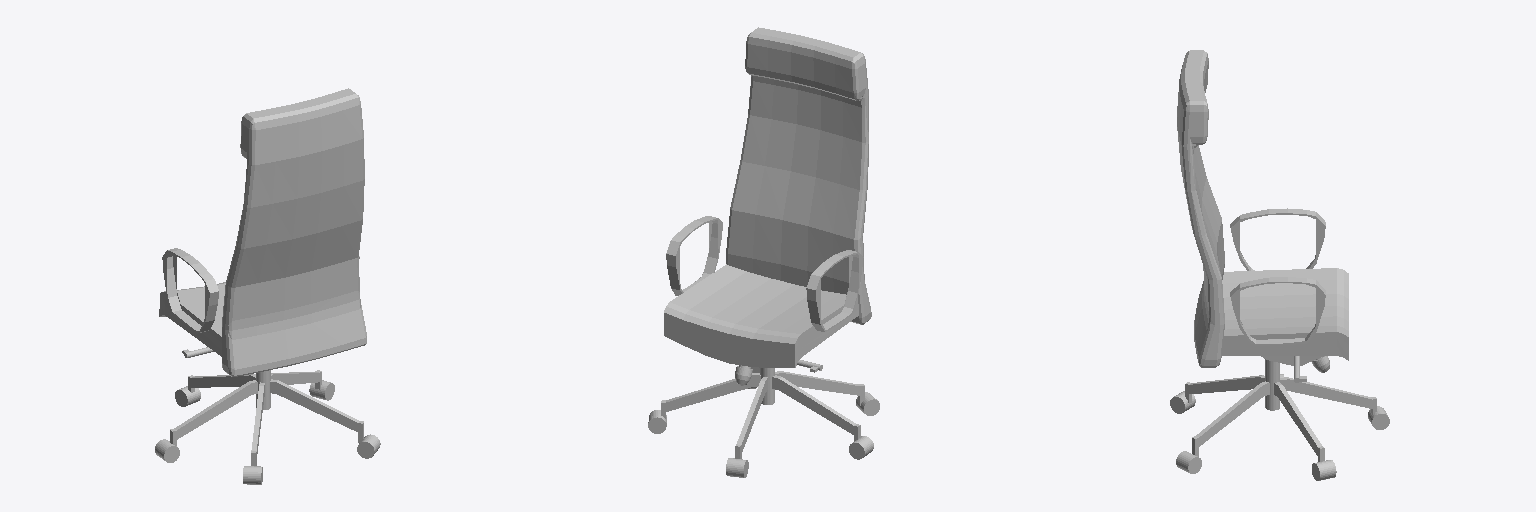
File: chair.obj
3 renders of one model, left to right at view 1: azimuth 30°, elevation 25°; view 2: azimuth 150°, elevation 25°; view 3: azimuth 270°, elevation 25°, orthographic.
Visible parts, largest first — view 1: Cube.002_Material.007; view 2: Cube.002_Material.007; view 3: Cube.002_Material.007.
Boxes of the visible parts, x1,y1,x2,y2 form: Cube.002_Material.007: [155, 88, 380, 484]; Cube.002_Material.007: [648, 27, 879, 477]; Cube.002_Material.007: [1170, 50, 1389, 480].
Bounding box in the file's own units: 0.7535 × 1.32 × 0.7247.